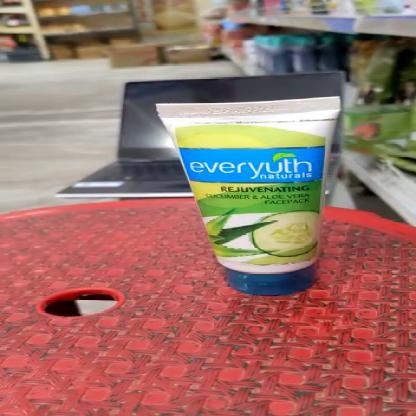EY RJ CUCUMBER ALOEVERA FACEPAK50G: (160, 96, 342, 296)
